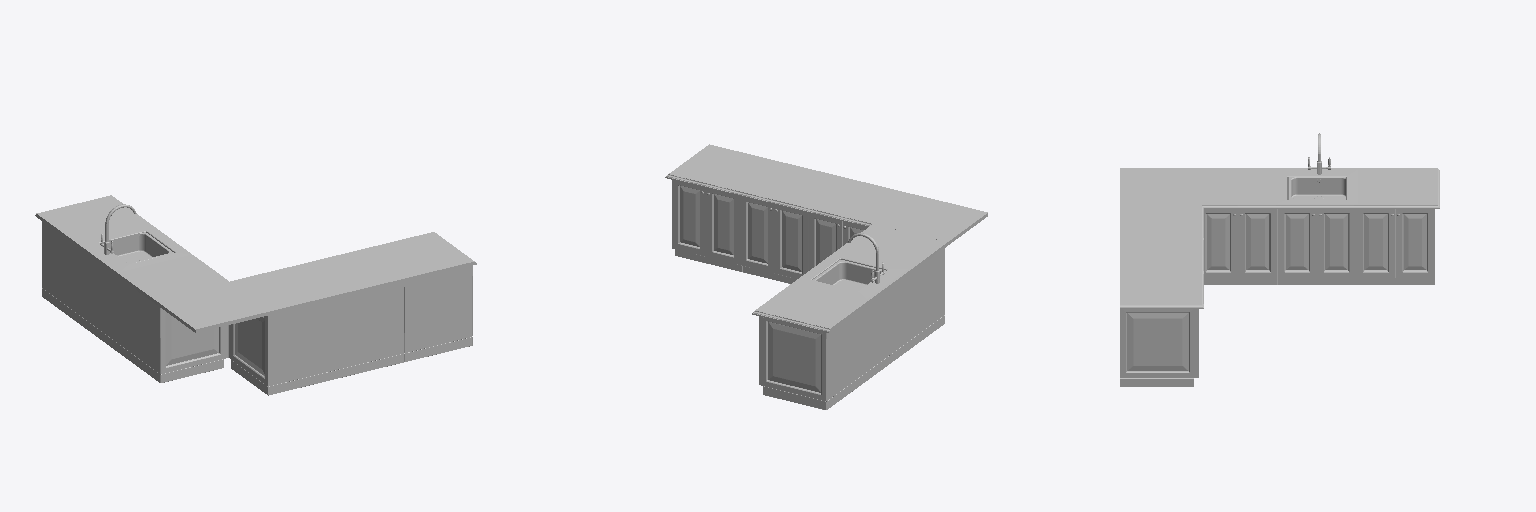
Rendered from Kitchen.obj.
3 views of the same model, side by side, from view 1: azimuth 30°, elevation 25°; view 2: azimuth 150°, elevation 25°; view 3: azimuth 270°, elevation 25° (orthographic).
Parts seen in each view (by area): view 1: Cupboards, Counter, Sink; view 2: Cupboards, Counter, Sink; view 3: Cupboards, Counter, Sink.
Boxes of the visible parts, box(x1,y1,x2,y2) form: Cupboards: box(42, 222, 472, 395); Counter: box(35, 195, 476, 332); Sink: box(100, 204, 173, 263); Cupboards: box(672, 180, 944, 409); Counter: box(665, 144, 987, 332); Sink: box(813, 233, 885, 290); Cupboards: box(1120, 180, 1434, 386); Counter: box(1120, 168, 1439, 308); Sink: box(1289, 133, 1345, 199).
Size of the model in its own units: 3.03 by 1.33 by 2.98.